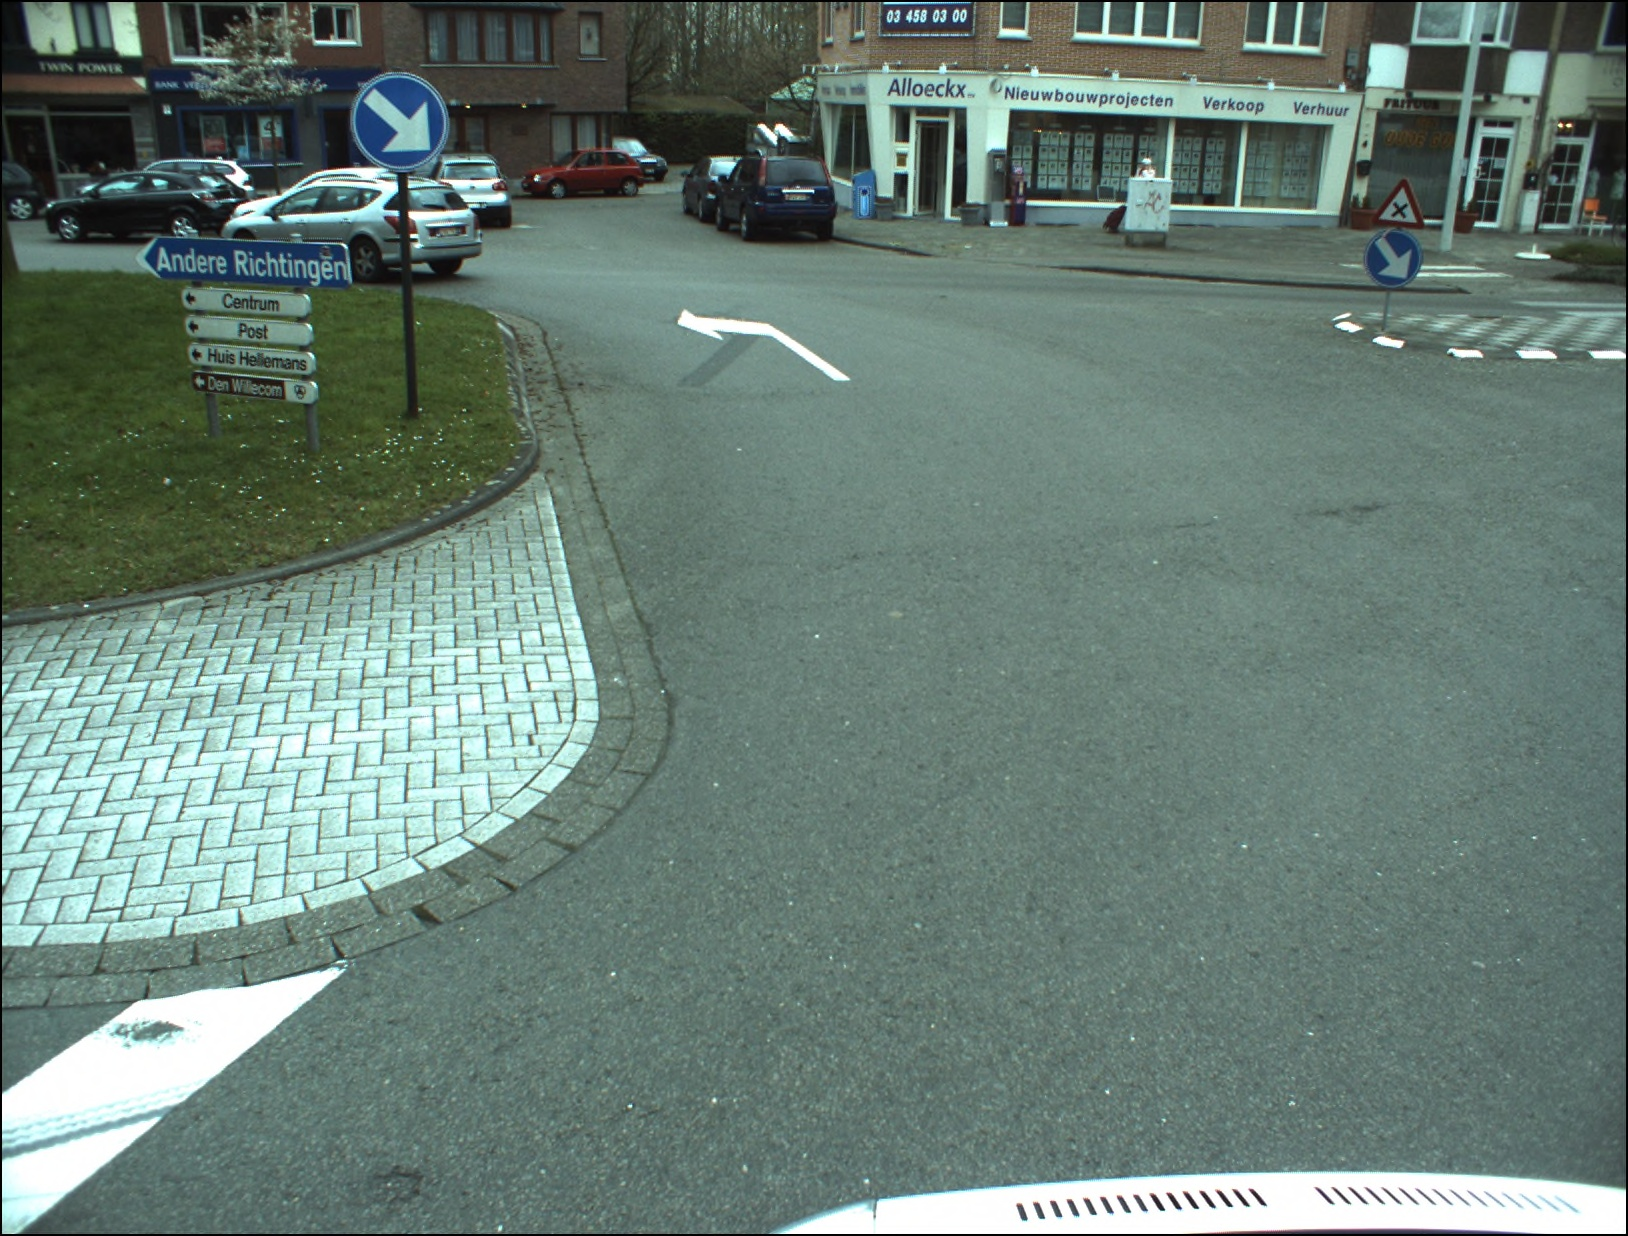passright: (354, 75, 447, 167), (1367, 231, 1420, 284)
